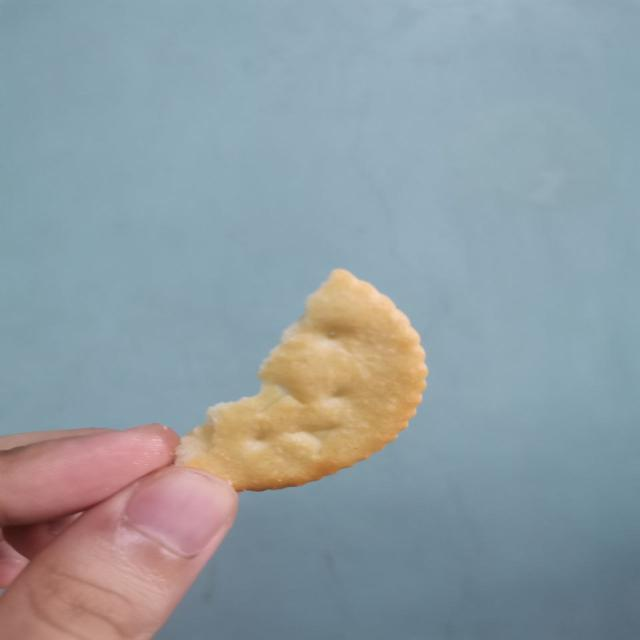broken biscuit: (171, 266, 430, 493)
